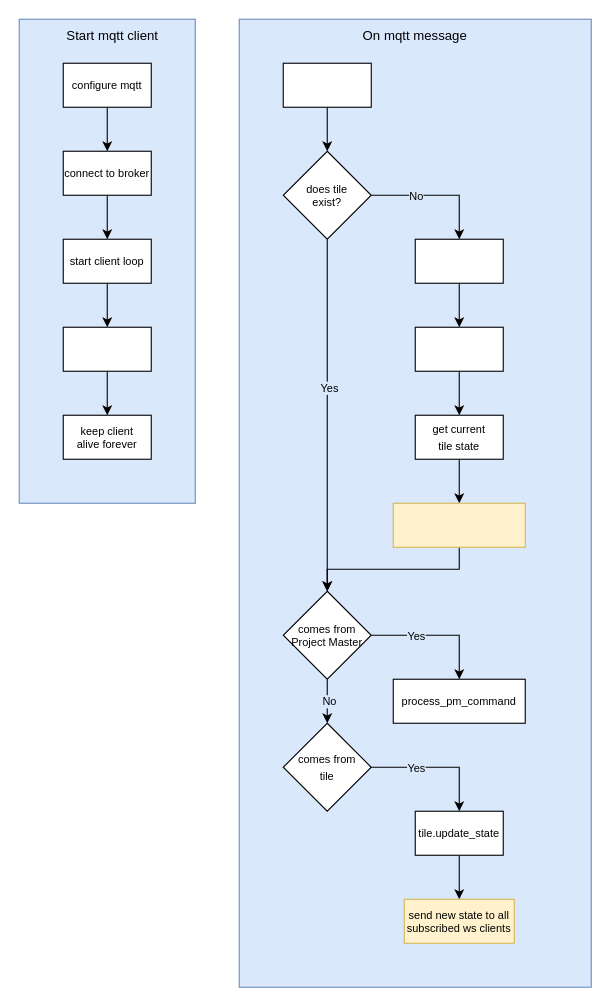
The diagram is 611 pixels wide and 1007 high, and some of its shapes have lost their labels. The centre of each missing label's shape, as x and y in pixels:
"add tile to tile list" belongs at (458,260).
"get tilename from topic" belongs at (326,84).
"send new tilename to all subscribed ws clients" belongs at (458,524).
"set mqtt started event" belongs at (106,348).
"Subscribe to necessary topics" belongs at (458,348).
